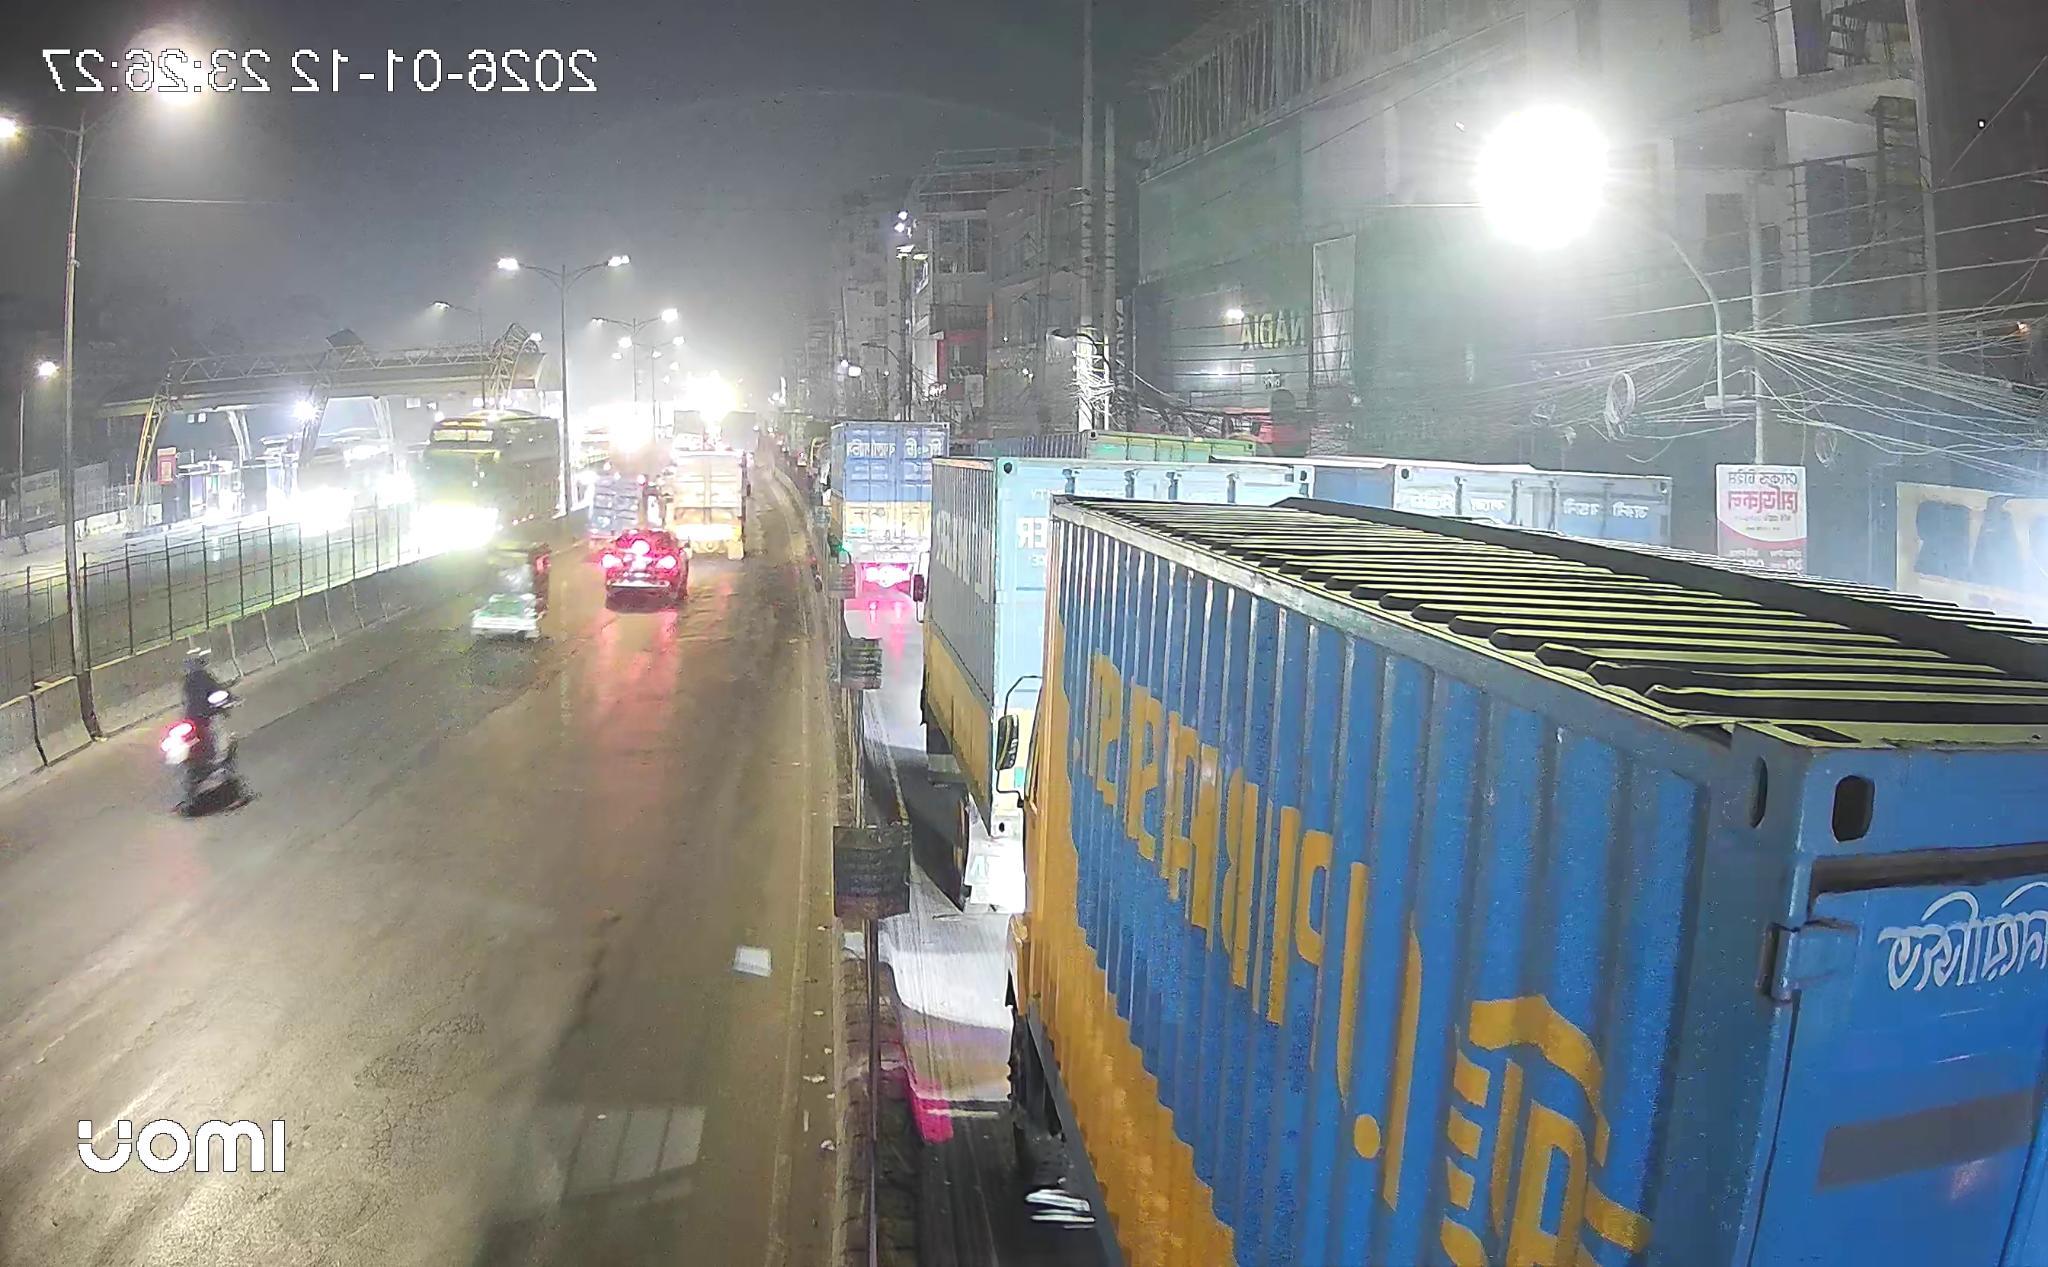Bus: (415, 410, 560, 547)
CNG-Tempo: (459, 543, 550, 641)
Motorcycle: (159, 647, 250, 815)
Private-Sedan Car: (598, 527, 689, 604)
Truck: (1009, 499, 2048, 1267), (919, 455, 1312, 910), (828, 420, 949, 597), (664, 451, 749, 565)
